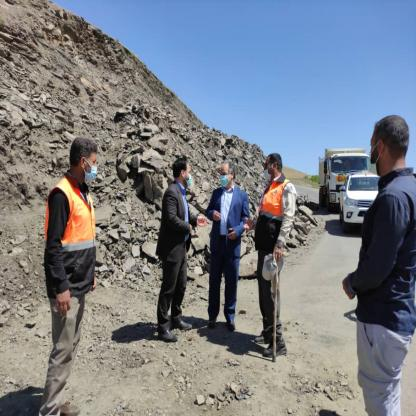person: (36, 120, 106, 416), (359, 95, 414, 414), (252, 127, 292, 356), (208, 142, 250, 339), (156, 147, 194, 343)
